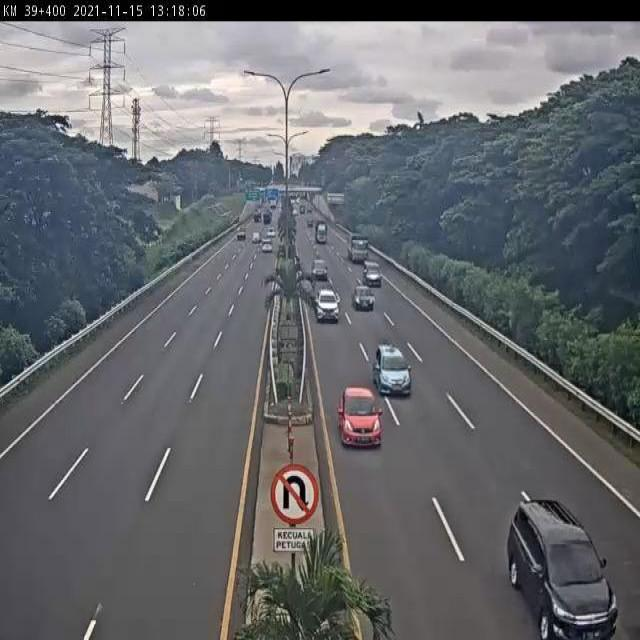car: (504, 497, 619, 640), (336, 384, 382, 448), (371, 341, 412, 400), (315, 287, 340, 324), (353, 284, 375, 311)
